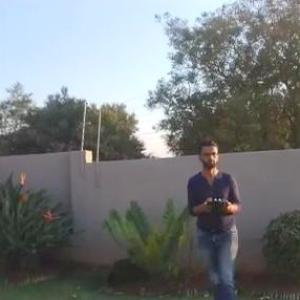follow: (184, 131, 250, 299)
